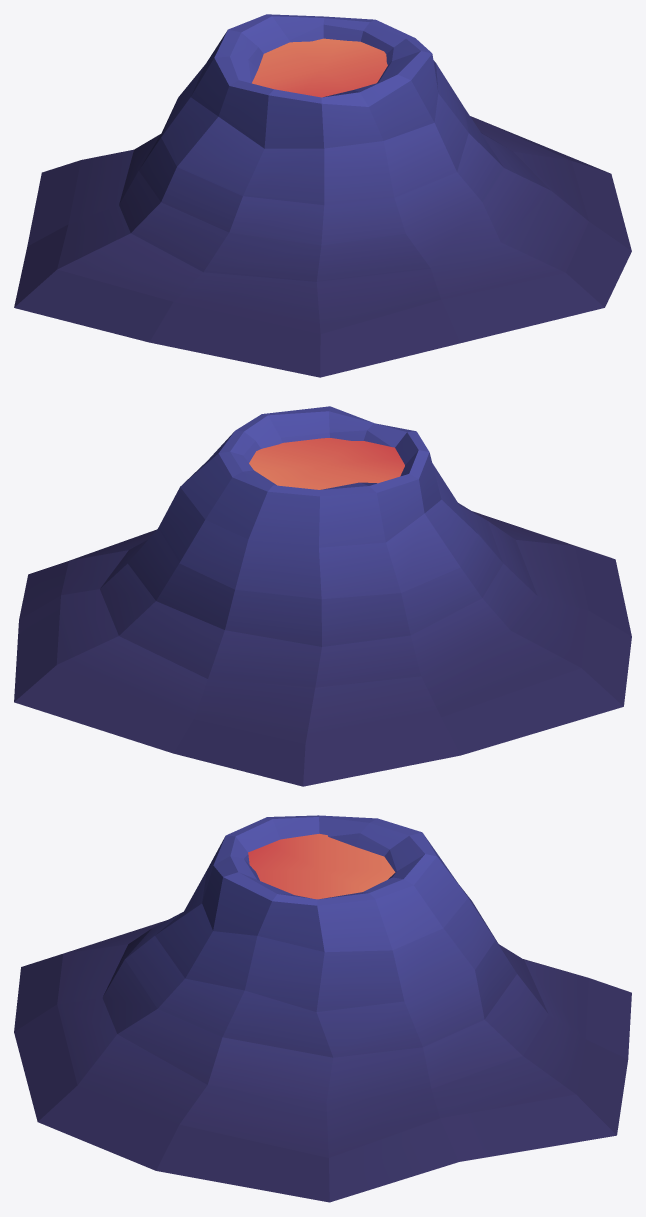
File: Volcan_02.fbx
The picture shows the model from 3 angles, top to bottom: view 1: azimuth 30°, elevation 25°; view 2: azimuth 150°, elevation 25°; view 3: azimuth 270°, elevation 25°; orthographic projection. The views are drawn at different scales.
Parts seen in each view (by area): view 1: Cylinder.104; view 2: Cylinder.104; view 3: Cylinder.104.
Part boxes in pixels (x1,y1,x2,y2): Cylinder.104: (14, 14, 631, 377); Cylinder.104: (14, 406, 631, 786); Cylinder.104: (14, 815, 631, 1202).
Size of the model in its own units: 2493 by 790 by 2164.
